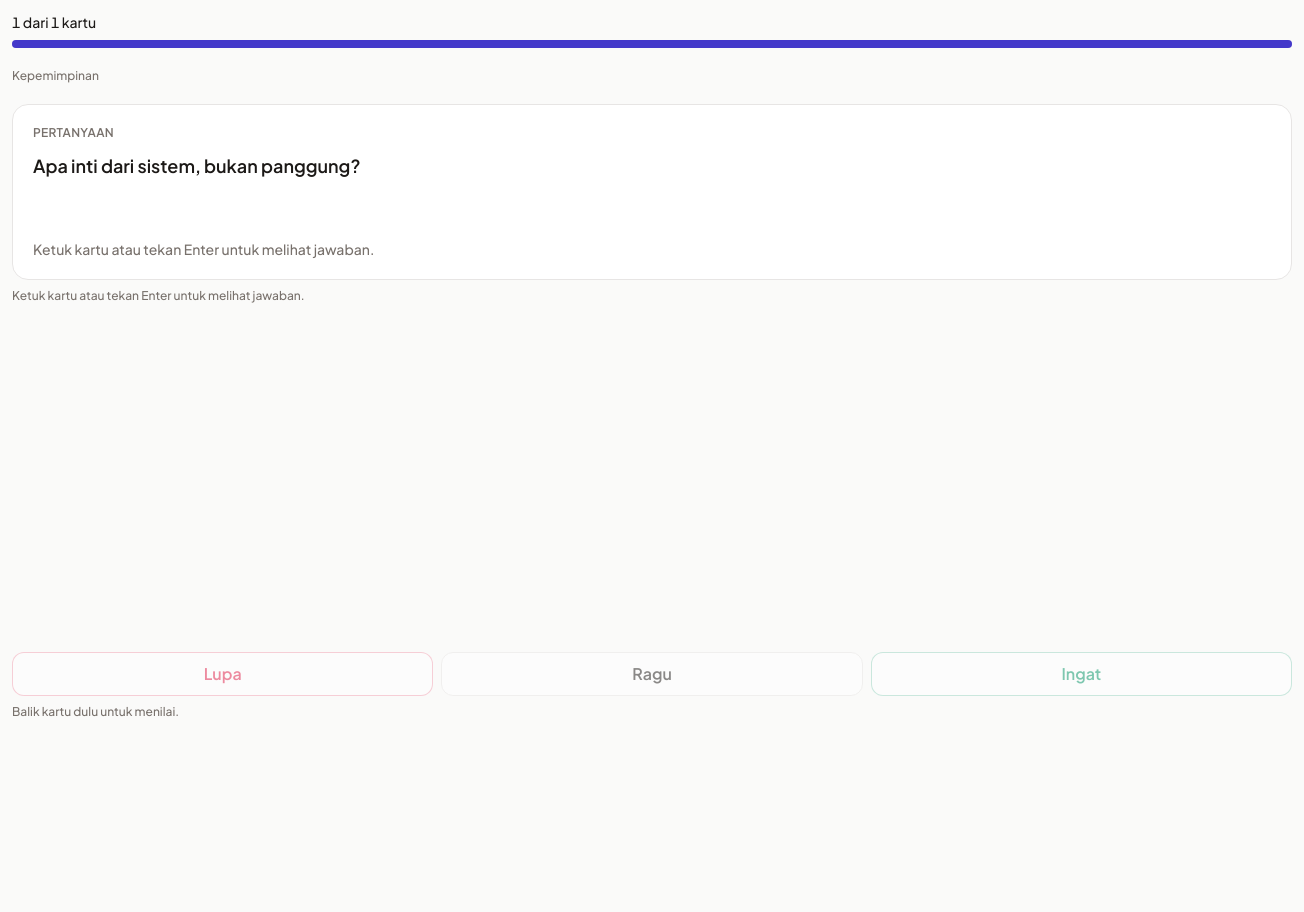
ReviewSession › does not show XP when the daily award was already claimed
The width and height of the screenshot is (1304, 912).
Click the button "Apa inti dari sistem": coordinates (652, 192) [12,104,1292,280]
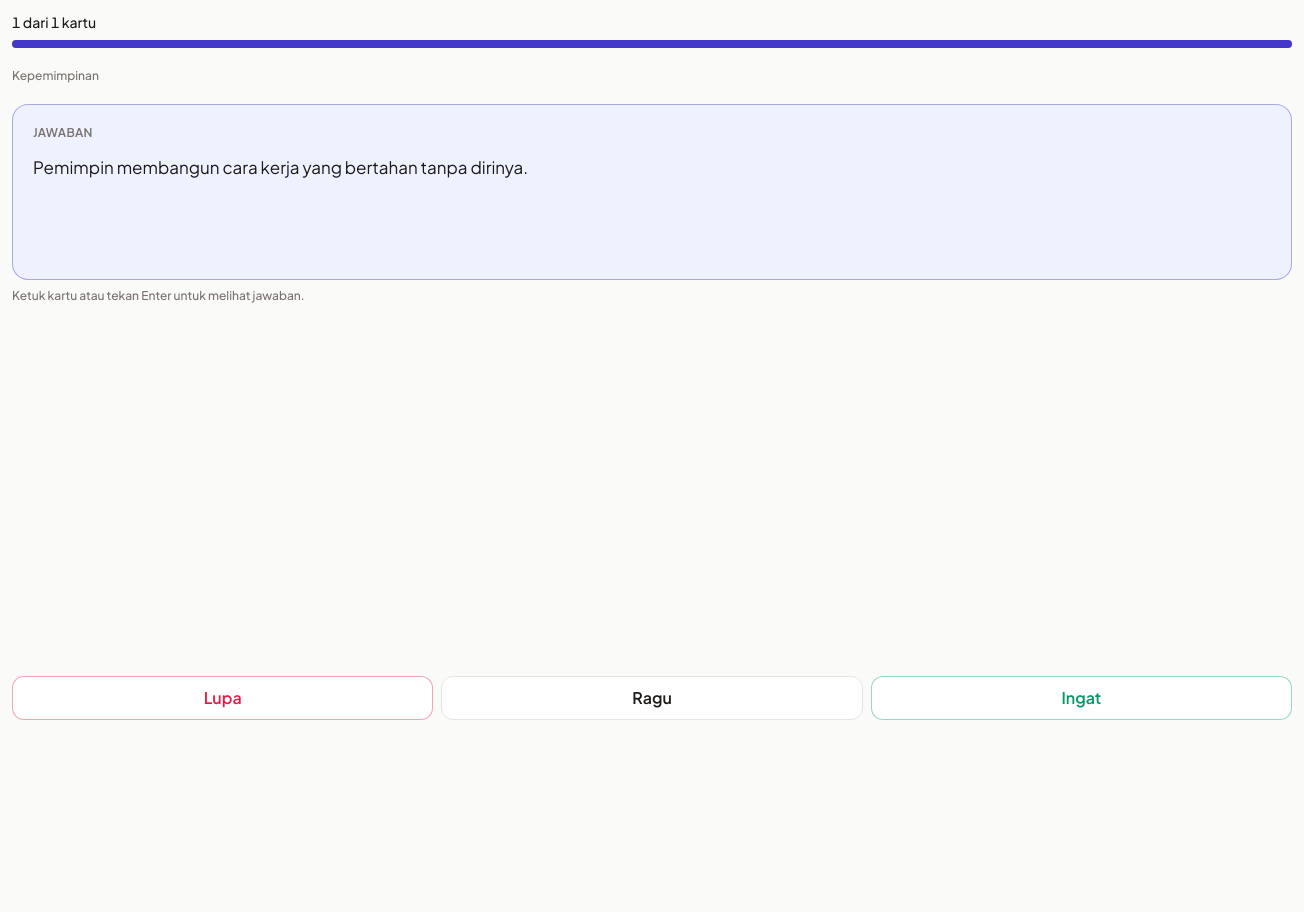
Click the button "Ingat": coordinates (1081, 698) [871,676,1292,720]
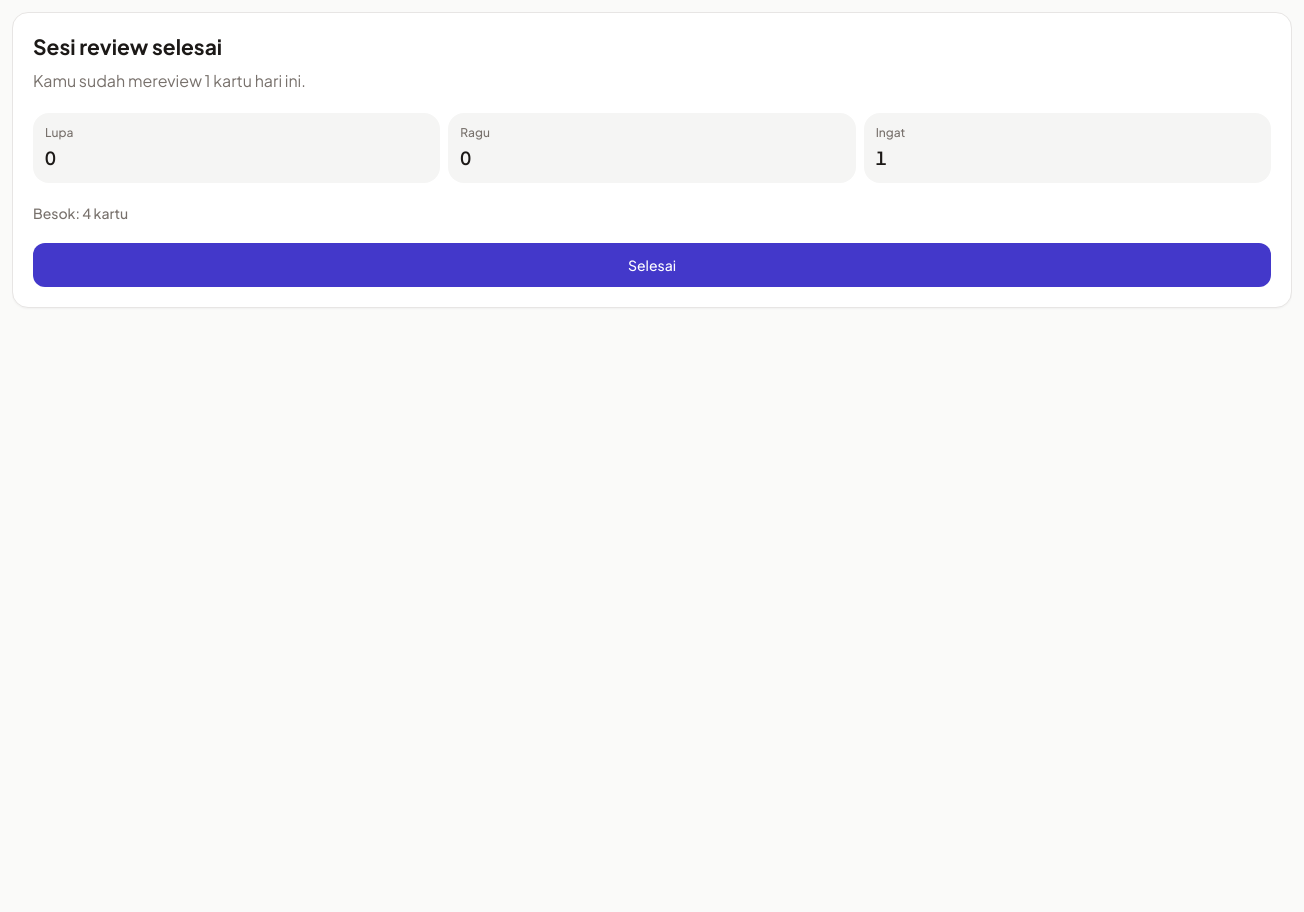
Now the heading "Sesi review selesai" is shown, box [33,33,222,60]
